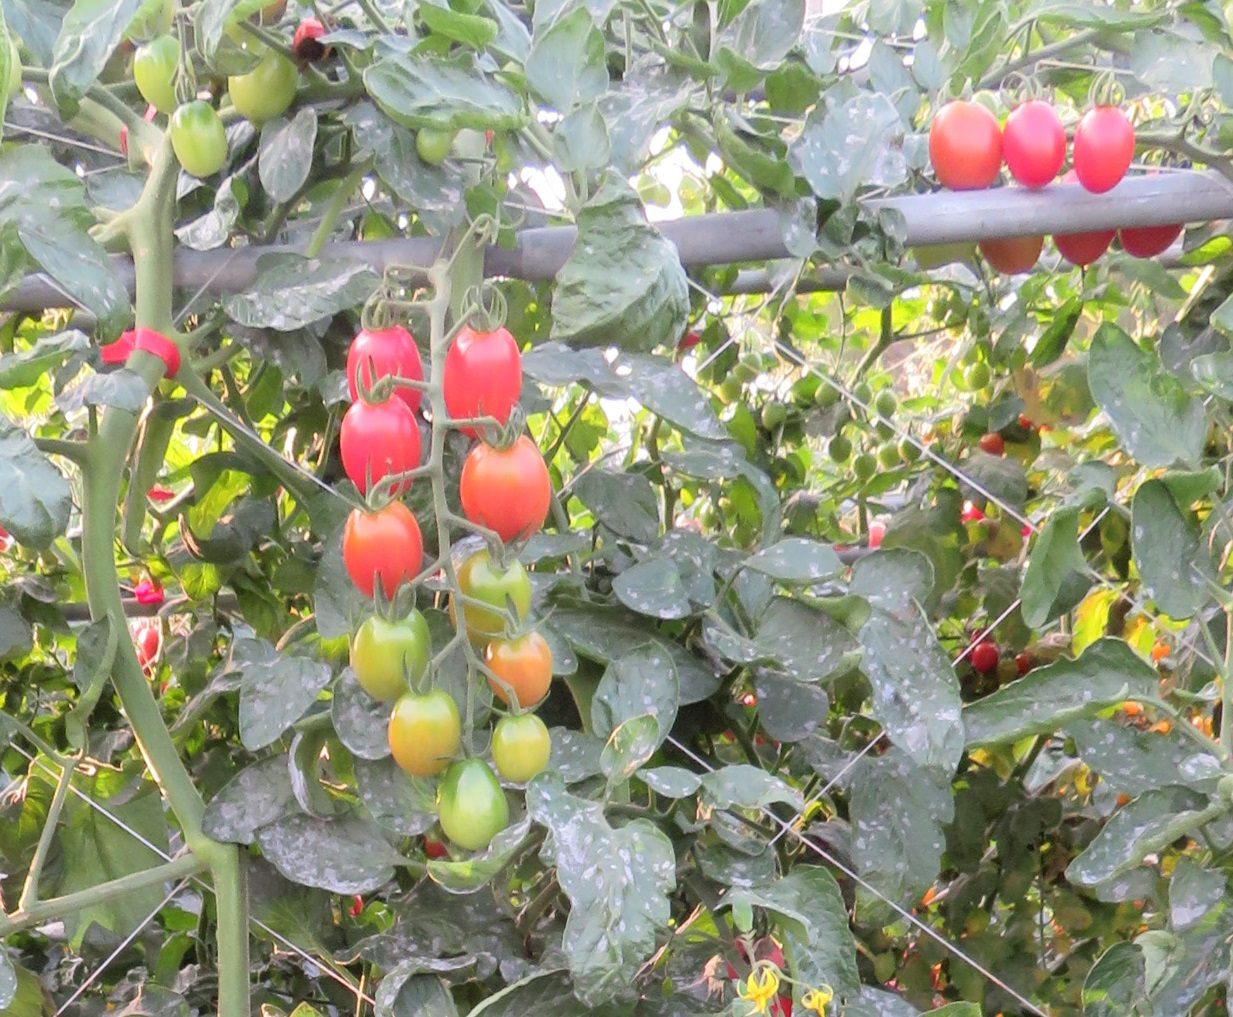green: (347, 610, 440, 703), (385, 690, 461, 778), (449, 557, 534, 633), (438, 762, 513, 847), (488, 701, 555, 782), (166, 105, 237, 180), (133, 34, 198, 111), (223, 57, 299, 122), (415, 124, 455, 170), (758, 399, 788, 432), (874, 388, 900, 421), (963, 361, 989, 392), (851, 452, 879, 481), (814, 379, 842, 409), (718, 373, 743, 404), (897, 435, 922, 464), (828, 435, 853, 464)
orange: (460, 427, 556, 542), (334, 501, 426, 598), (924, 101, 1008, 194), (486, 632, 552, 707)
red: (327, 399, 423, 496), (437, 326, 526, 427), (342, 327, 423, 404), (1070, 103, 1136, 195), (1005, 99, 1068, 190), (1118, 214, 1185, 258), (971, 642, 1000, 676)
